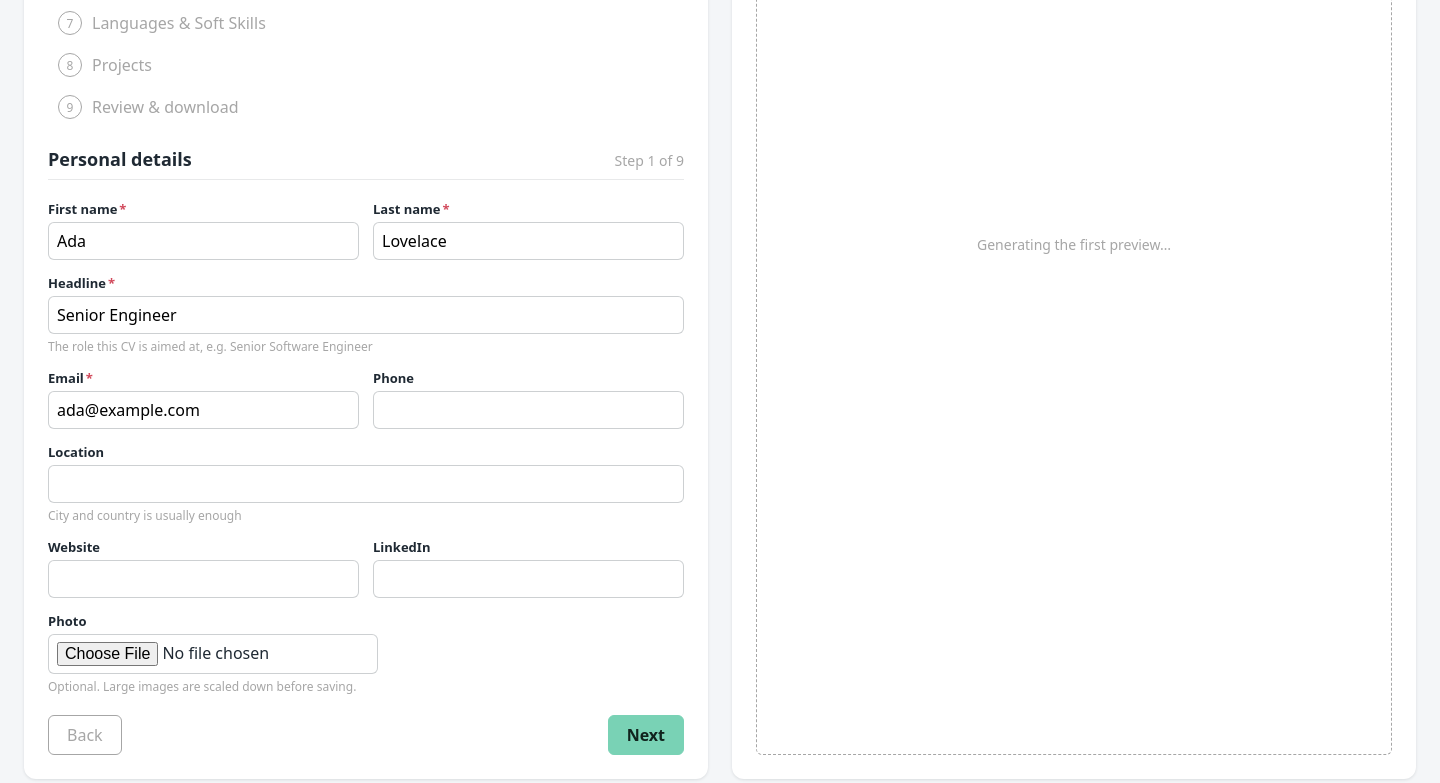
Scenario: step navigation › going back leaves the reached steps unlocked
(page scrolled)
Click the button "Next" at (646, 735), box [608,715,684,755]
(page scrolled)
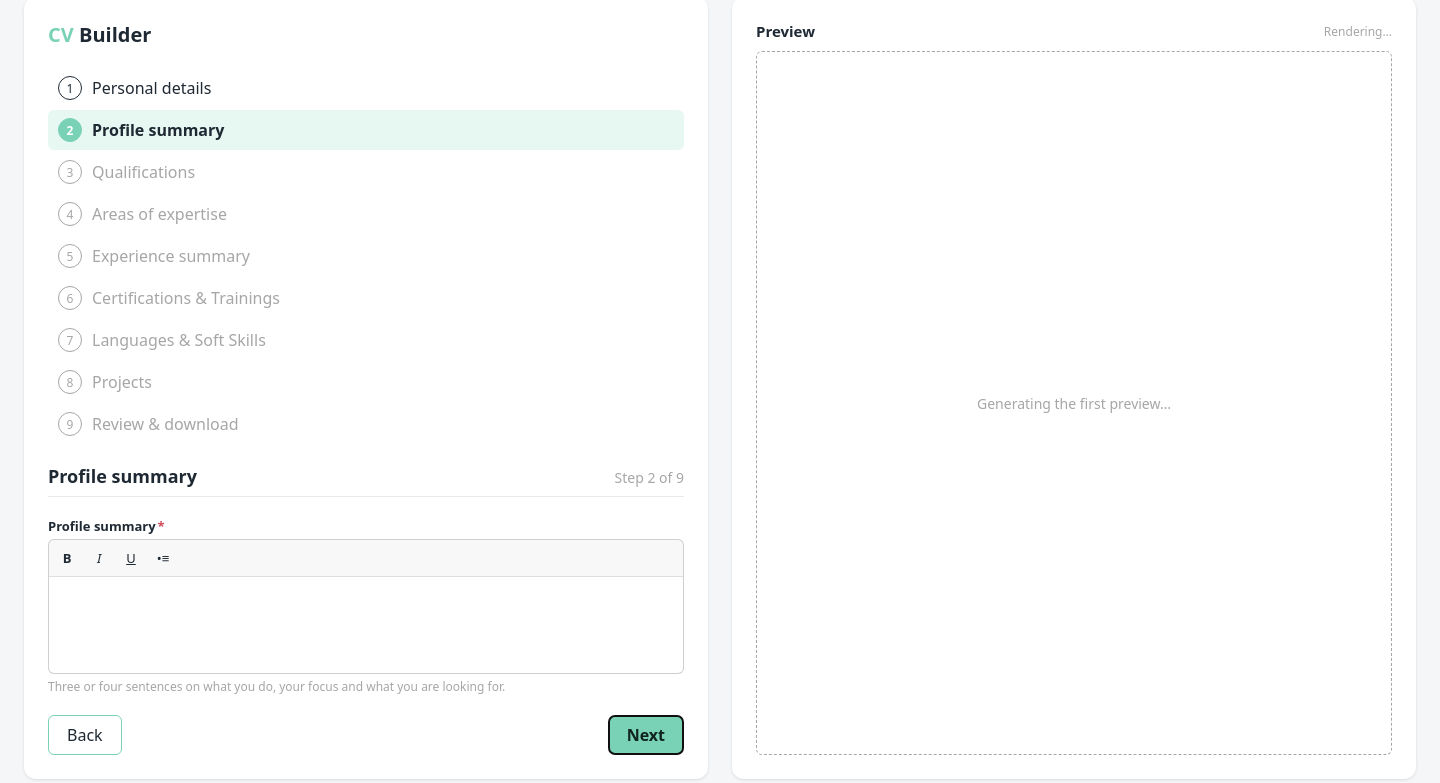
Expected: the heading "Profile summary" is shown, [48,464,197,488]
Click the button "Back" at (85, 735), box [48,715,122,755]
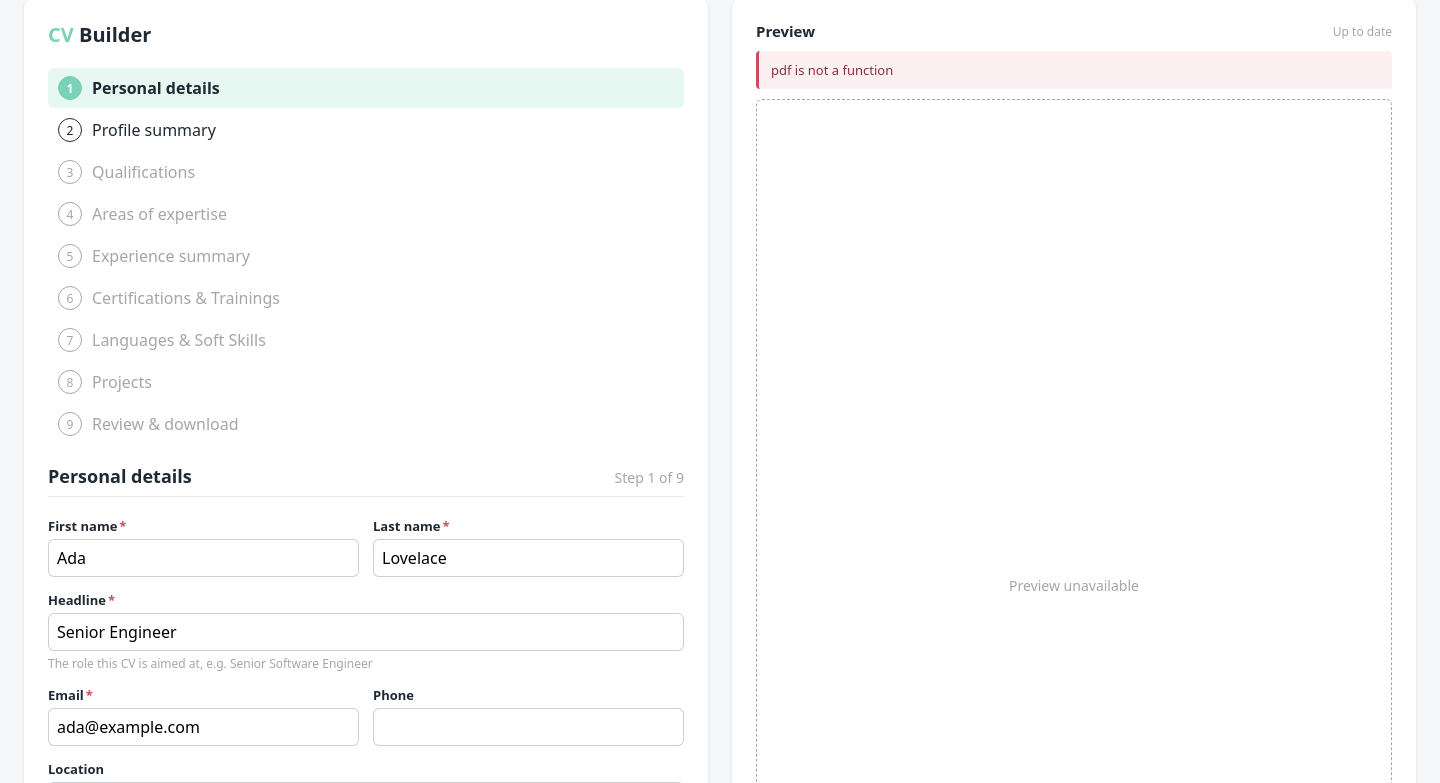
Expected: the button "2 Profile summary" is enabled, [48,110,684,150]
Expected: the heading "Personal details" is shown, [48,464,192,488]
